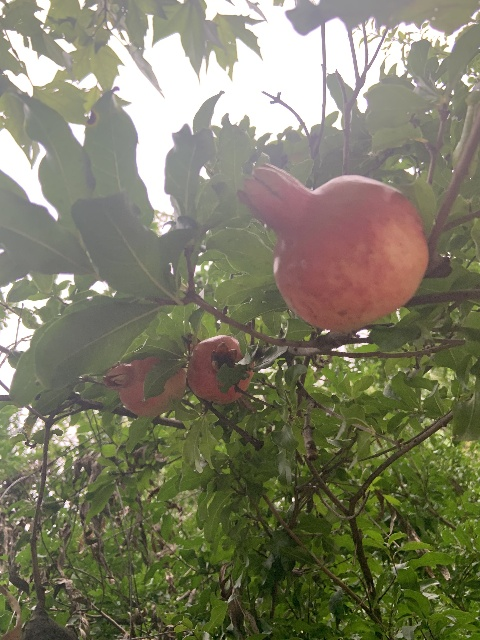ripe: (238, 165, 428, 333), (103, 356, 185, 417), (186, 334, 254, 403)
